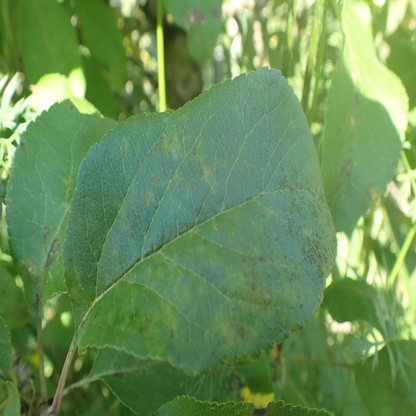scab: (70, 74, 337, 366), (19, 223, 61, 307), (336, 91, 360, 193), (221, 372, 275, 409), (360, 182, 377, 211)
